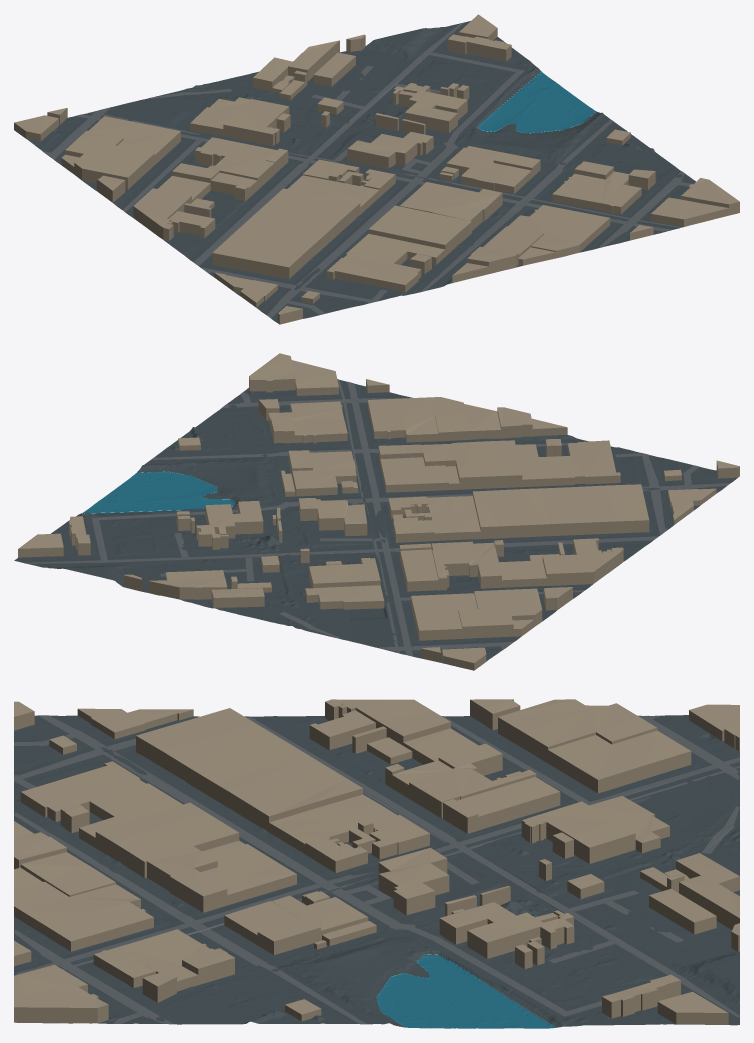
Rendered from epsg26910-1442-10873.lod0.glb.
The picture shows the model from 3 angles, top to bottom: view 1: azimuth 30°, elevation 25°; view 2: azimuth 150°, elevation 25°; view 3: azimuth 270°, elevation 25°; orthographic projection. The views are drawn at different scales.
Parts seen in each view (by area): view 1: epsg26910-1442-10873-lod0; view 2: epsg26910-1442-10873-lod0; view 3: epsg26910-1442-10873-lod0.
Boxes of the visible parts, x1,y1,x2,y2 form: epsg26910-1442-10873-lod0: [14, 14, 739, 324]; epsg26910-1442-10873-lod0: [14, 353, 739, 670]; epsg26910-1442-10873-lod0: [14, 699, 739, 1028].
Size of the model in its own units: 384 by 13.22 by 384.
